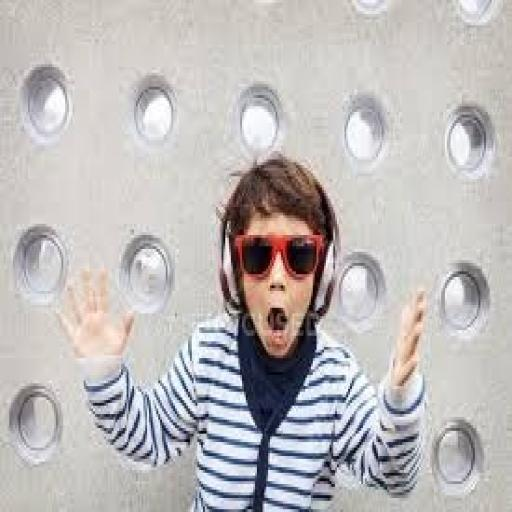listening_to_music: (54, 151, 430, 509)
